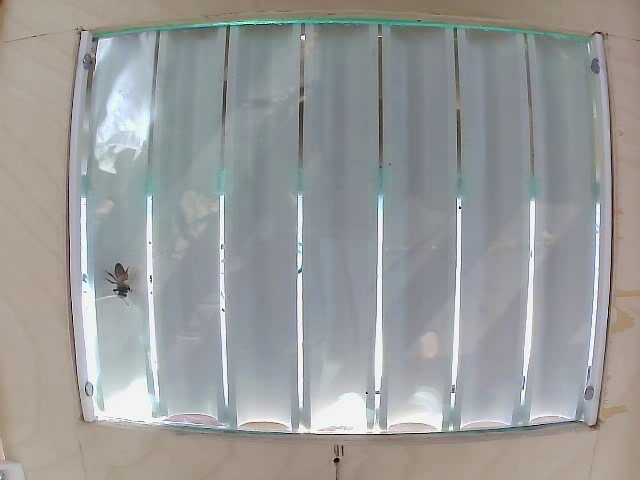bee: (107, 252, 139, 306)
